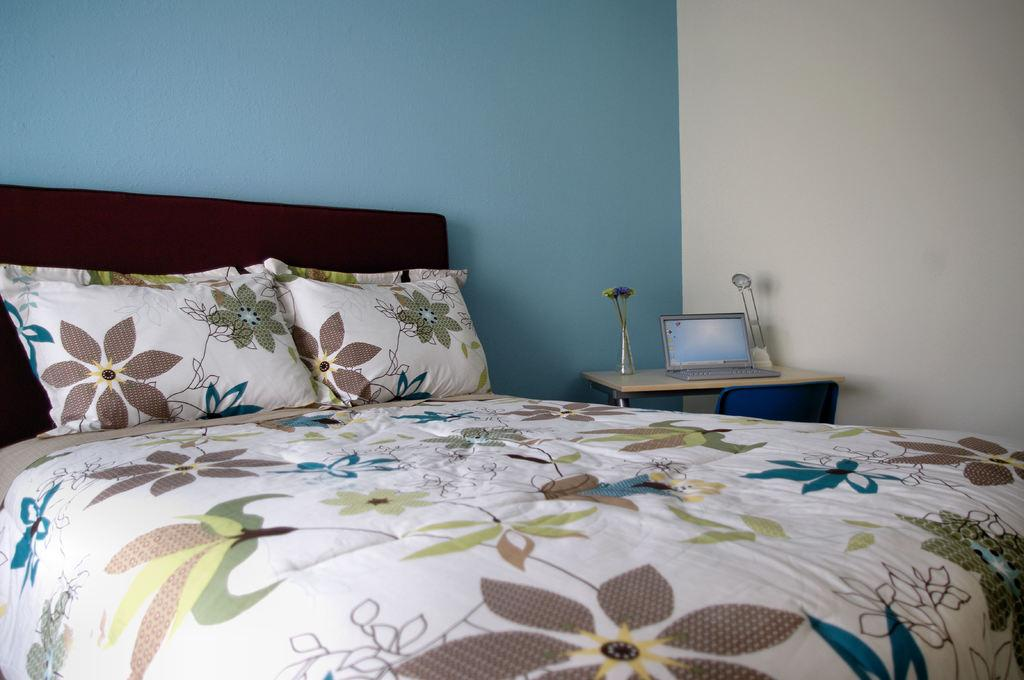Chair: (714, 379, 839, 424)
Laptop: (658, 311, 781, 381)
